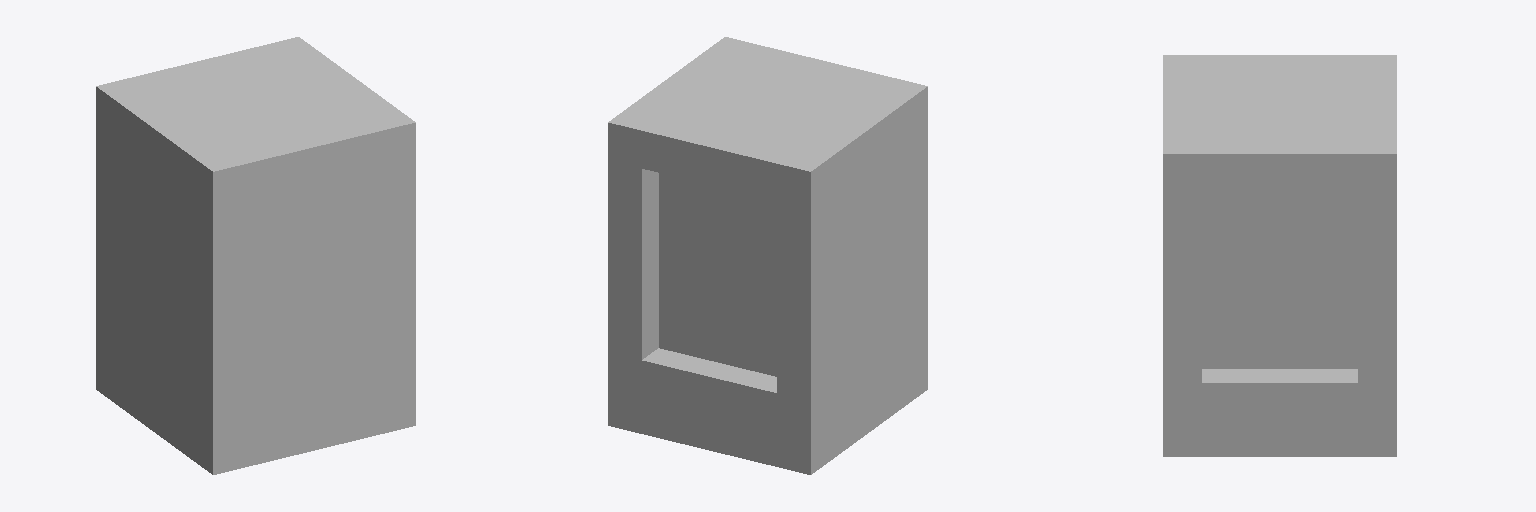
File: mylandscaping_column_lower.obj
3 views of the same model, side by side, from view 1: azimuth 30°, elevation 25°; view 2: azimuth 150°, elevation 25°; view 3: azimuth 270°, elevation 25° (orthographic).
Visible parts, largest first — view 1: Block_OutsideCorner_Bottom_Cube.037; view 2: Block_OutsideCorner_Bottom_Cube.037; view 3: Block_OutsideCorner_Bottom_Cube.037.
Boxes of the visible parts, <box> form: Block_OutsideCorner_Bottom_Cube.037: <box>96,37,415,474</box>; Block_OutsideCorner_Bottom_Cube.037: <box>608,37,927,474</box>; Block_OutsideCorner_Bottom_Cube.037: <box>1163,55,1396,456</box>.
Size of the model in its own units: 0.7 by 1 by 0.7.